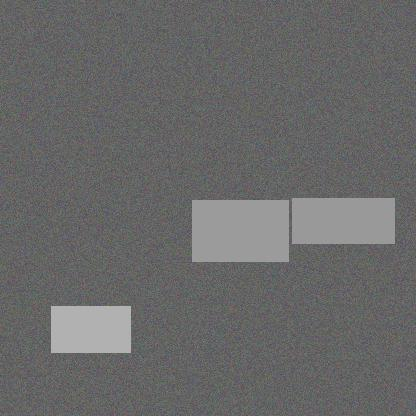empty: (120, 211, 175, 290)
